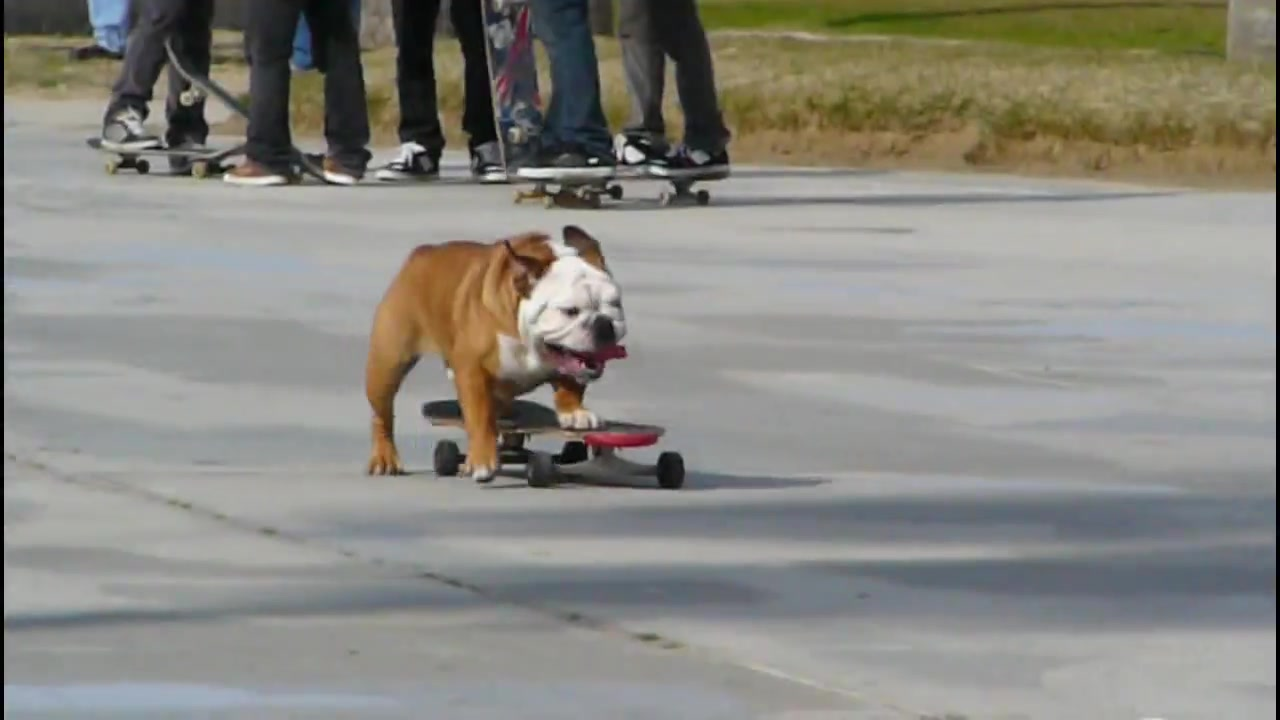dog: (363, 224, 637, 485)
